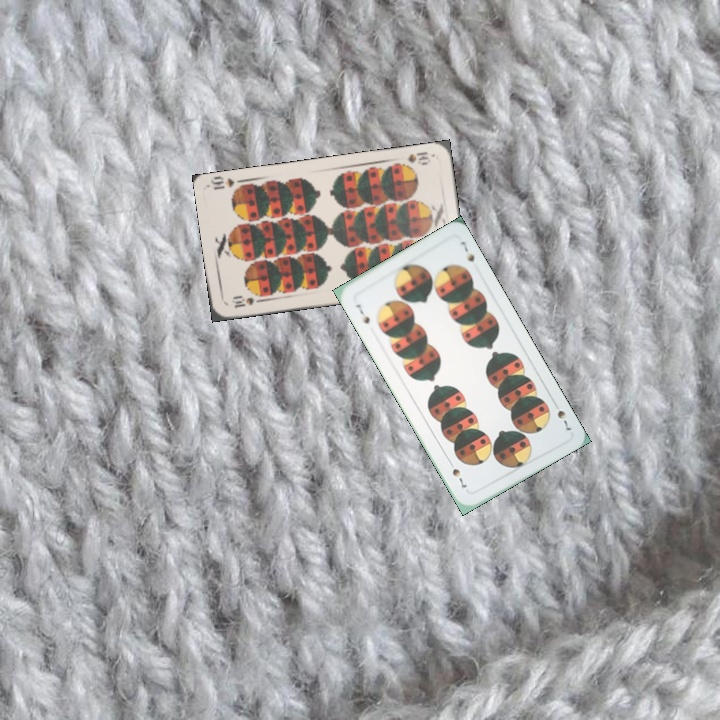S10: (228, 293, 265, 310), (403, 148, 431, 166)
S7: (549, 397, 574, 433), (352, 300, 372, 329)
